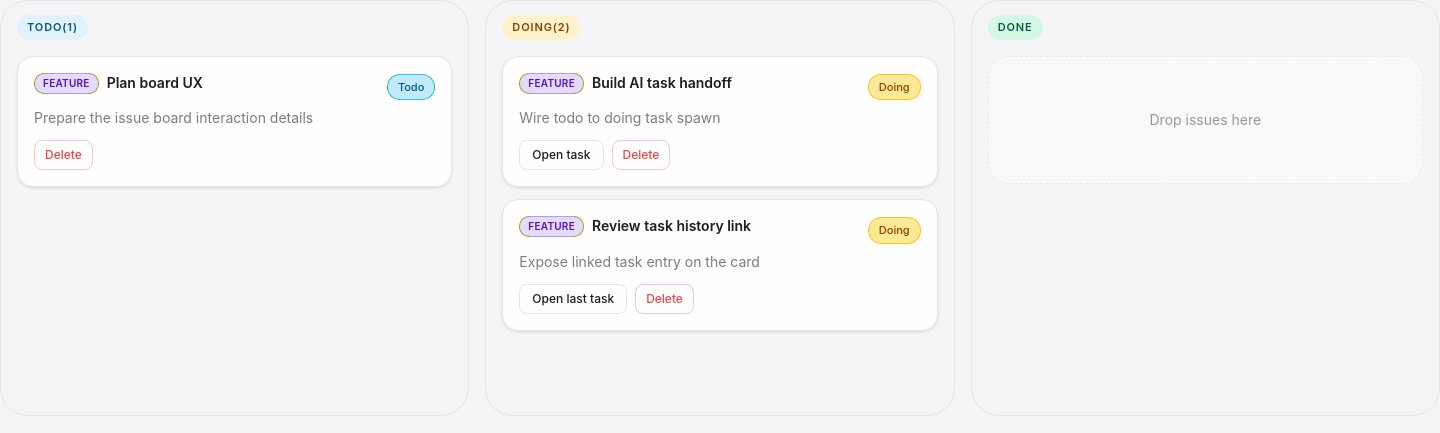
Test: IssueBoard › arms delete confirmation on first click without deleting
This screenshot has width=1440, height=433.
Click the button with aria-label "Delete issue Plan board UX" at (63, 155), box [34, 140, 93, 170]
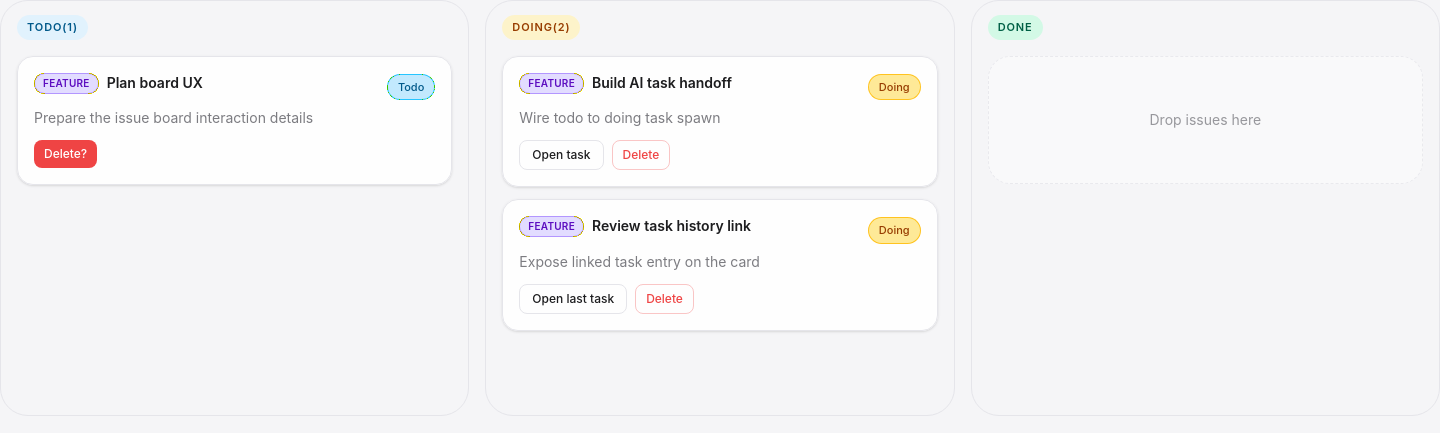
Expected: the button with aria-label "Confirm deleting Plan board UX" reads "Delete?", [34, 140, 97, 168]
